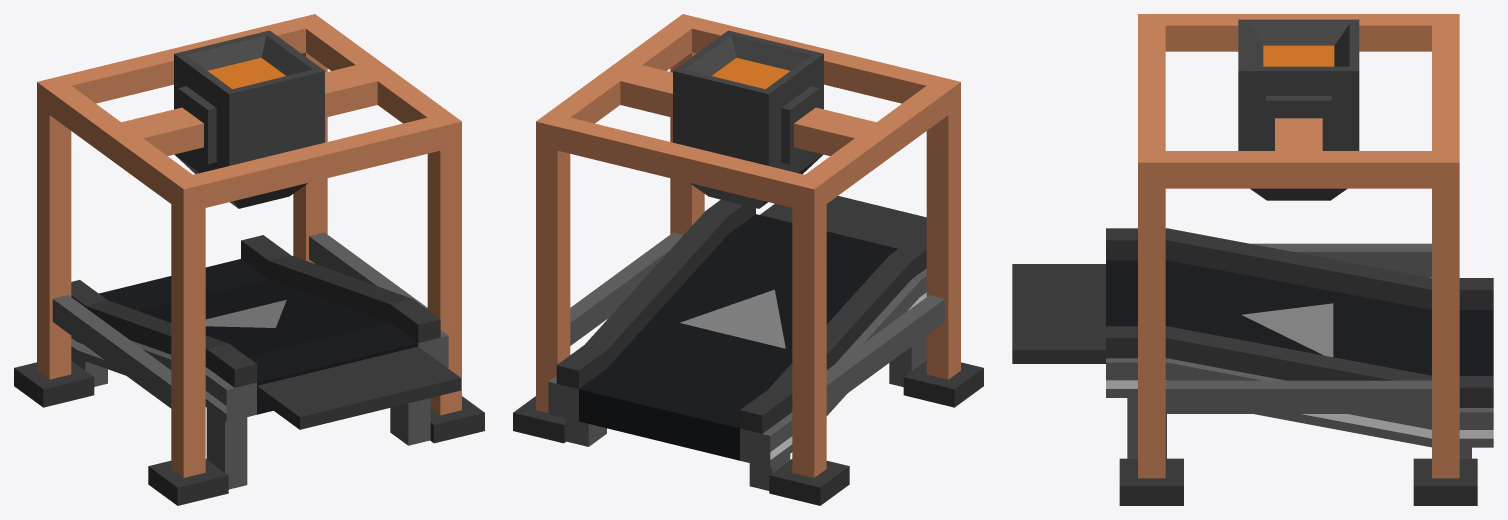
Rendered from BaseMateriaLDispenser.fbx.
The picture shows the model from 3 angles, left to right: view 1: azimuth 30°, elevation 25°; view 2: azimuth 150°, elevation 25°; view 3: azimuth 270°, elevation 25°; orthographic projection. The views are drawn at different scales.
Visible parts, largest first — view 1: Cube.053; view 2: Cube.053; view 3: Cube.053.
Part boxes in pixels (x1=…): Cube.053: x1=14, y1=14, x2=484, y2=505; Cube.053: x1=513, y1=14, x2=983, y2=505; Cube.053: x1=1012, y1=14, x2=1493, y2=505.
Bounding box in the file's own units: 124 × 99.61 × 107.
